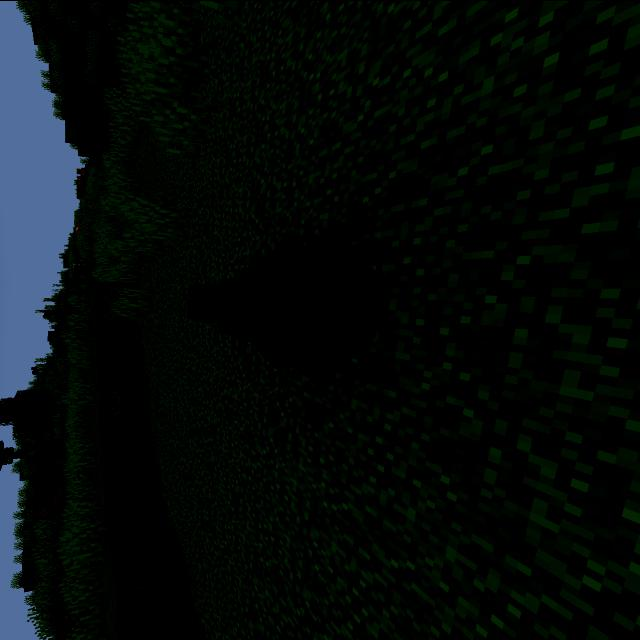Spider: (164, 213, 416, 393)
